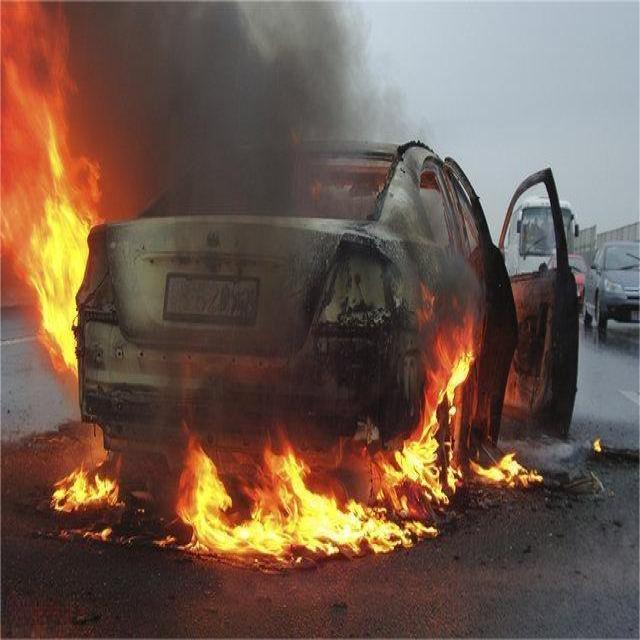Fire: (176, 426, 402, 562), (0, 0, 81, 365), (402, 351, 470, 535), (52, 458, 120, 512), (474, 443, 538, 491)
Smoke: (84, 0, 362, 215)
